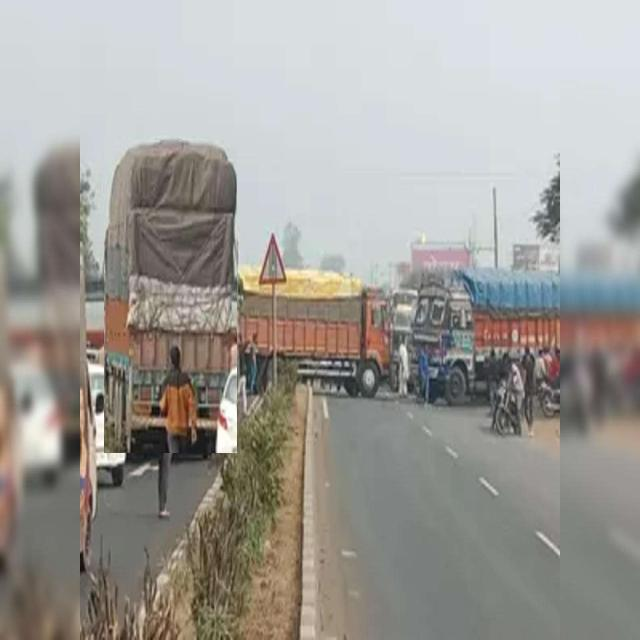truck: (105, 140, 237, 453), (276, 269, 391, 396)
